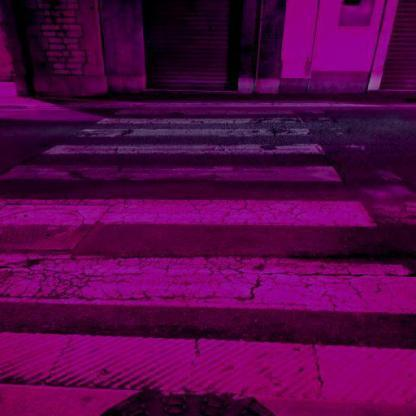crosswalk: (0, 191, 416, 320), (34, 126, 332, 158)
